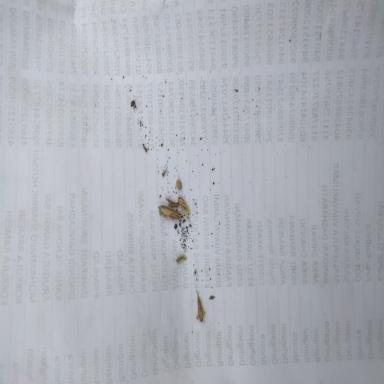pbw: (157, 205, 184, 220), (196, 290, 205, 322), (177, 195, 190, 215), (165, 197, 179, 208), (176, 253, 187, 263)
